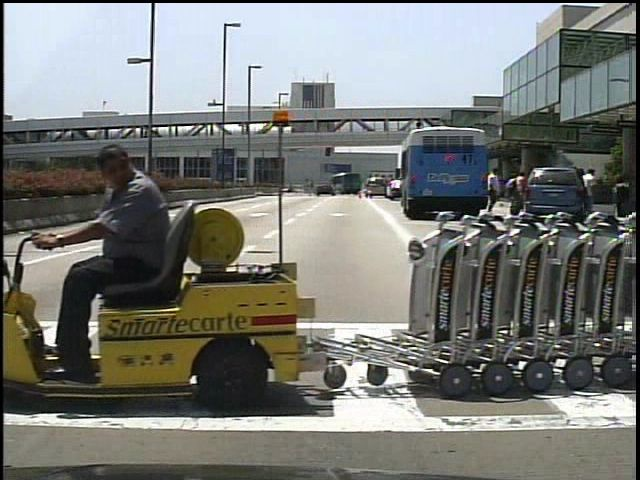person: (70, 141, 182, 380), (507, 166, 527, 219), (580, 165, 601, 214), (487, 165, 505, 217)
